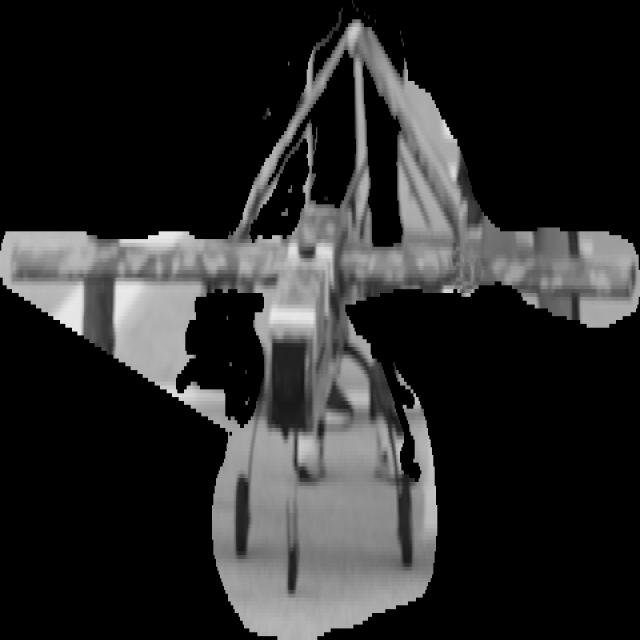iha: (4, 211, 496, 563), (496, 254, 634, 297)
